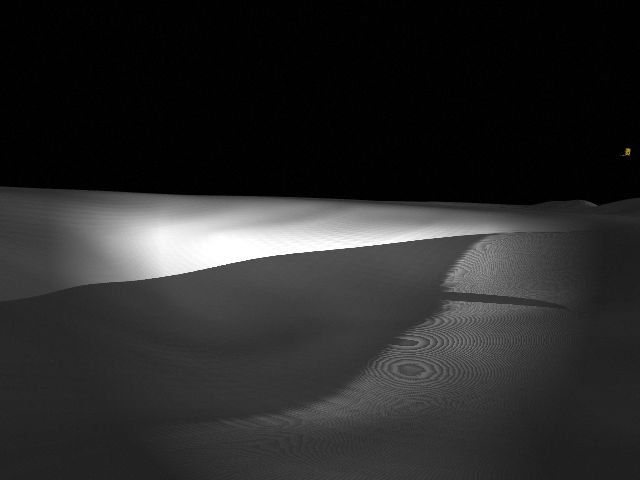cubesat: (617, 144, 636, 161)
